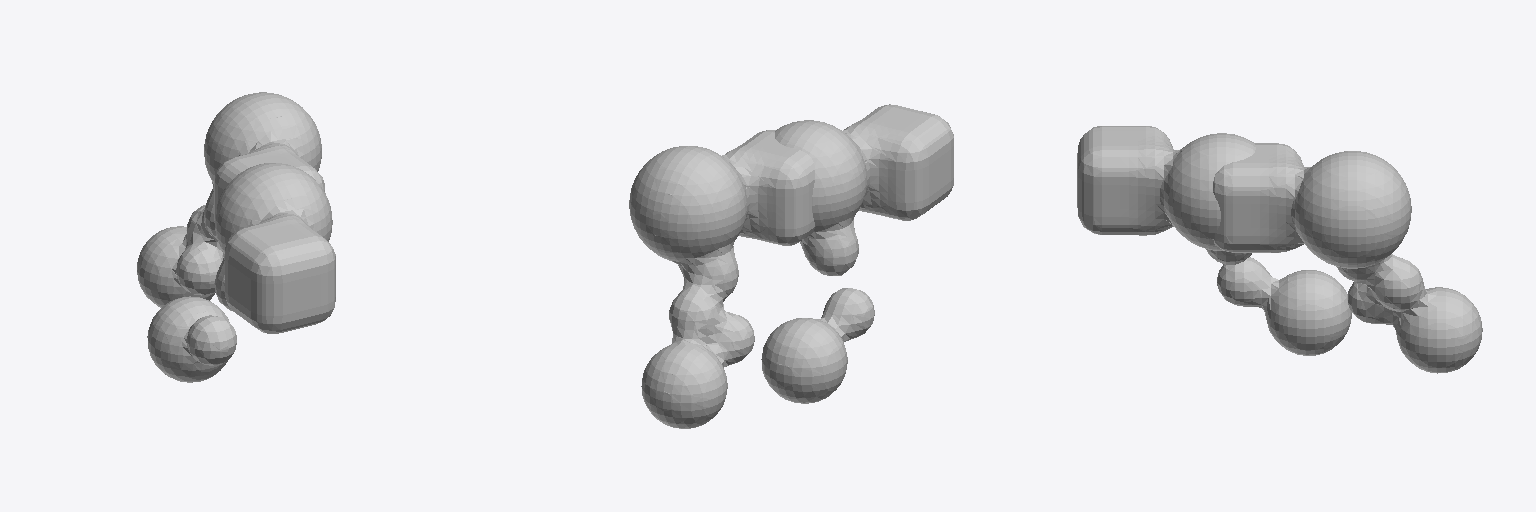
3 views of the same model, side by side, from view 1: azimuth 30°, elevation 25°; view 2: azimuth 150°, elevation 25°; view 3: azimuth 270°, elevation 25° (orthographic).
Visible parts, largest first — view 1: Mball.001, Mball.006_Mesh; view 2: Mball.006_Mesh, Mball.001; view 3: Mball.006_Mesh, Mball.001.
Part boxes in pixels (x1,y1,x2,y2): Mball.001: (147,163,335,382); Mball.006_Mesh: (137,92,324,307); Mball.006_Mesh: (629,130,814,428); Mball.001: (761,104,953,403); Mball.006_Mesh: (1213,143,1482,373); Mball.001: (1077,126,1351,355).
Bounding box in the file's own units: 9.84 × 12.04 × 18.3.